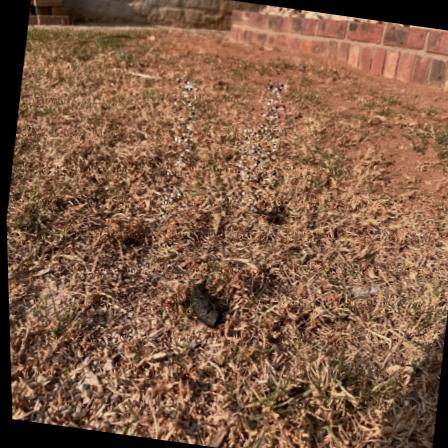dog-poop: (173, 275, 232, 331)
